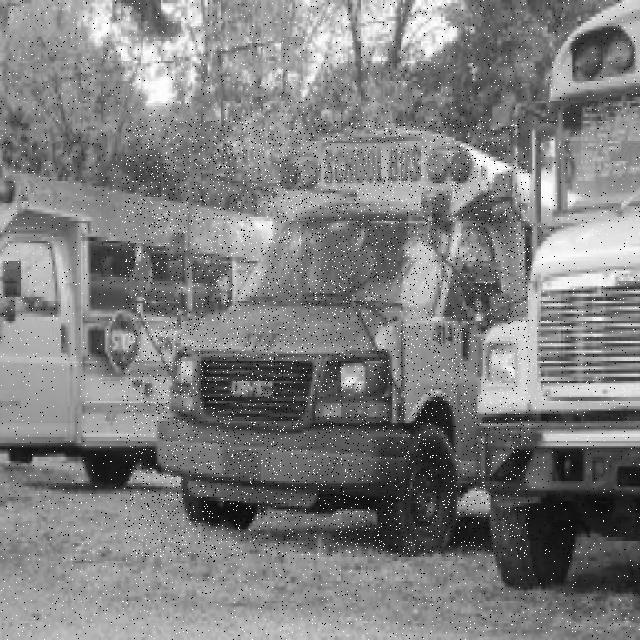Bus- Small: (125, 119, 530, 557)
